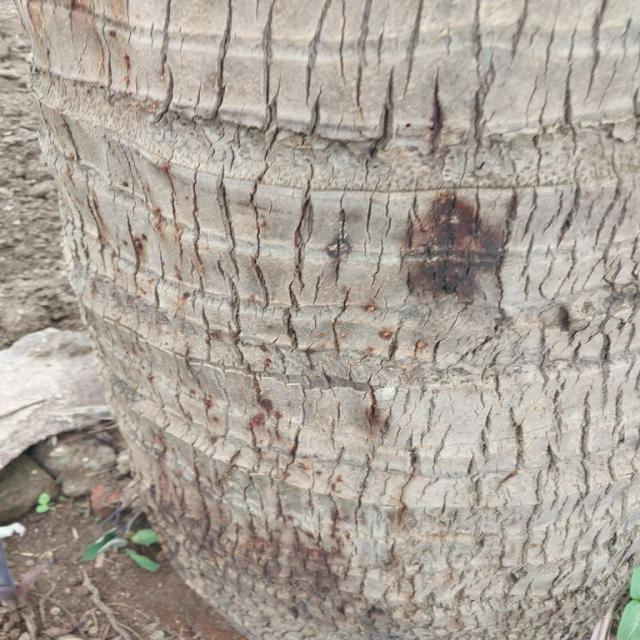stembleeding: (347, 182, 525, 338)
